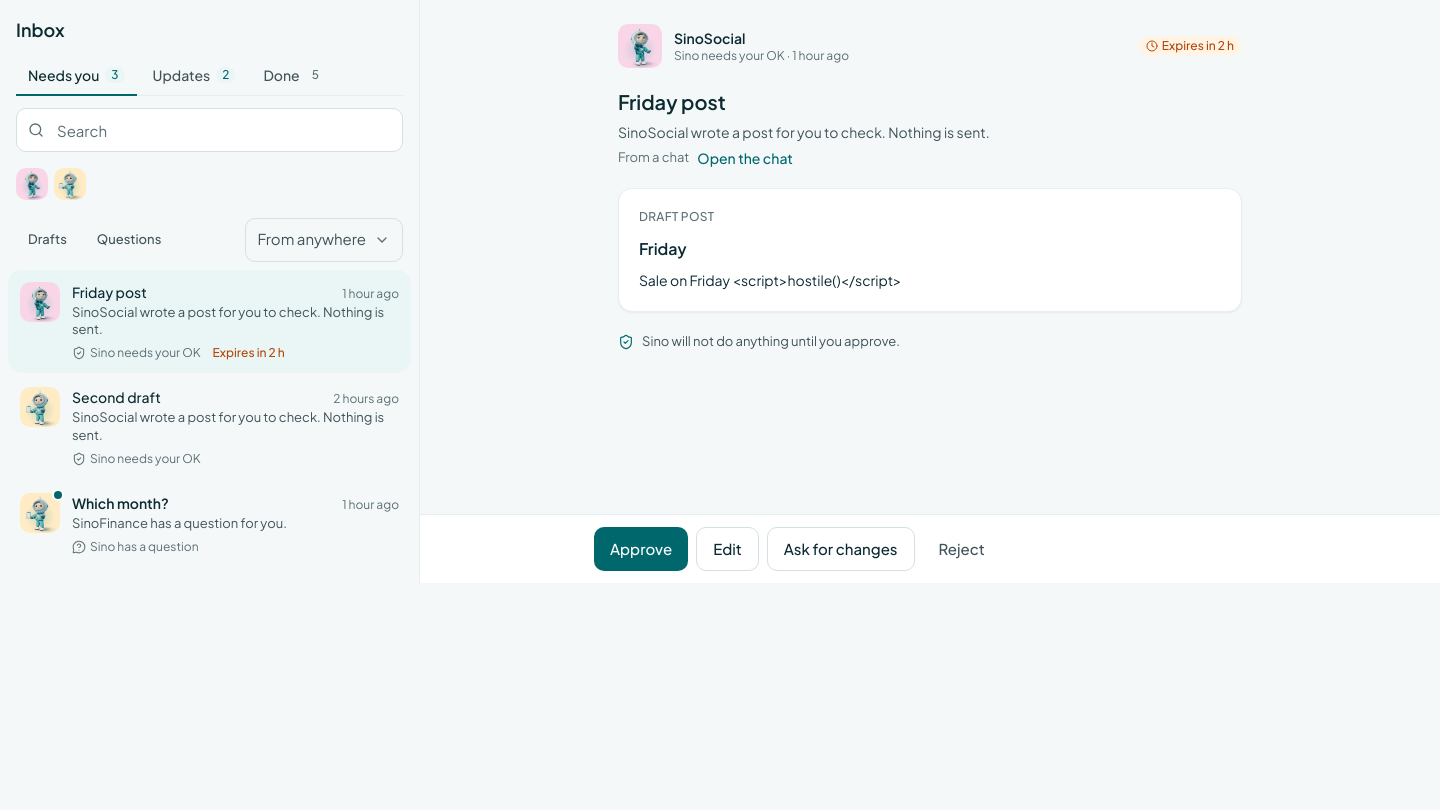
it: keyboard › r, c and e only move focus or open editors; r never rejects by itself
Press r
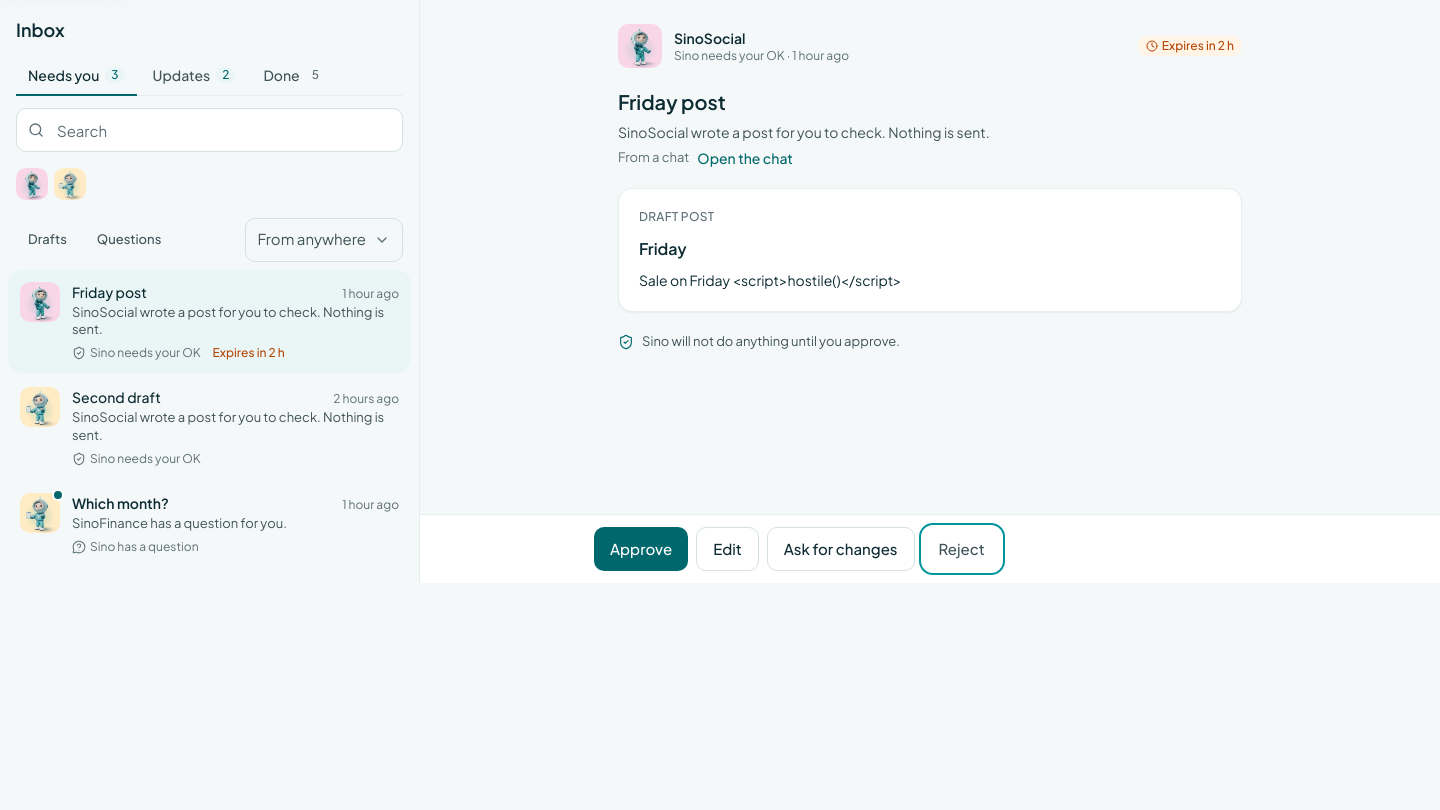
Expected: the field labelled "Note (optional)" is not shown
Click the button "Reject": {"x": 962, "y": 549} [922,527,1001,571]
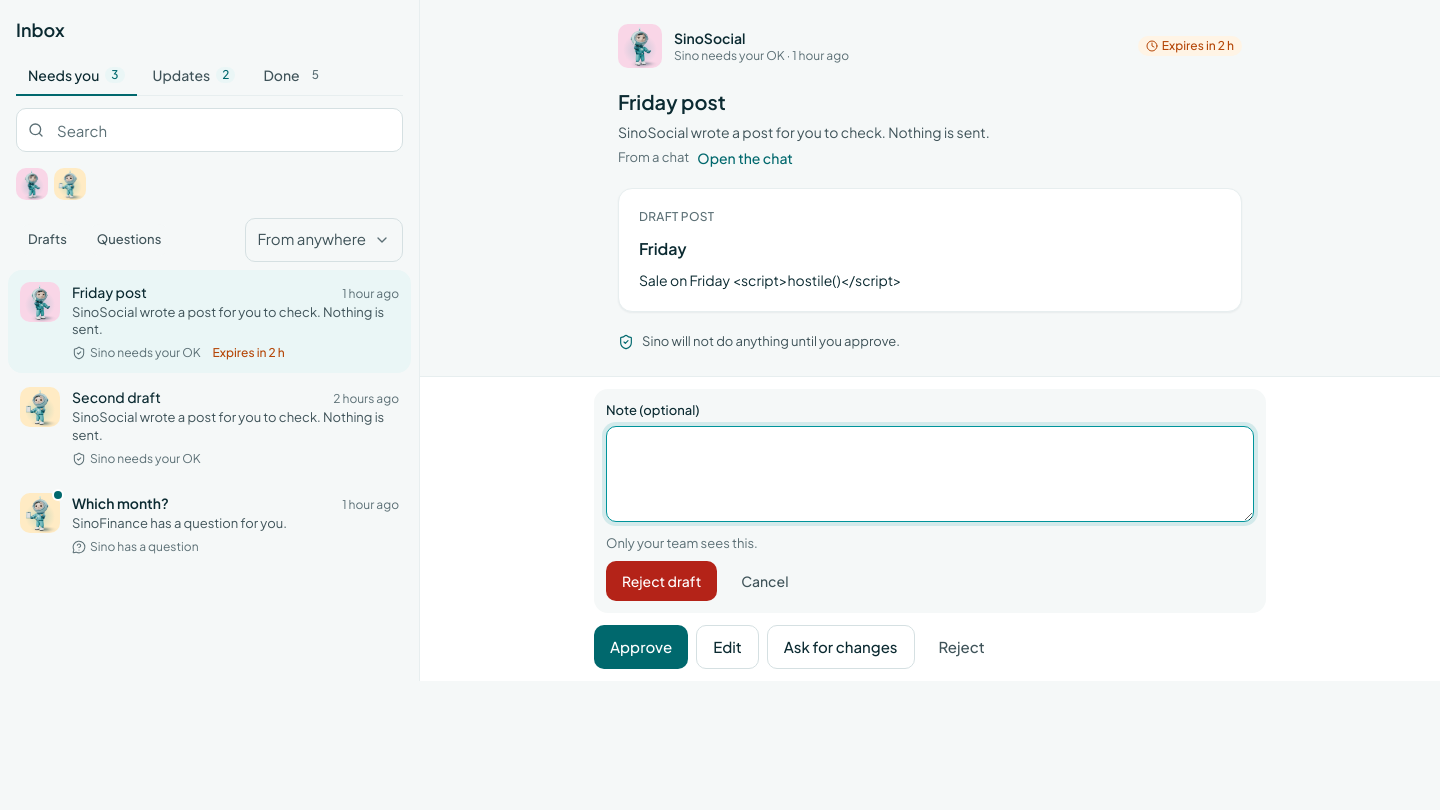
Expected: the text box labelled "Note (optional)" is shown
Press Escape in the text box labelled "Note (optional)", box [606,426,1254,522]
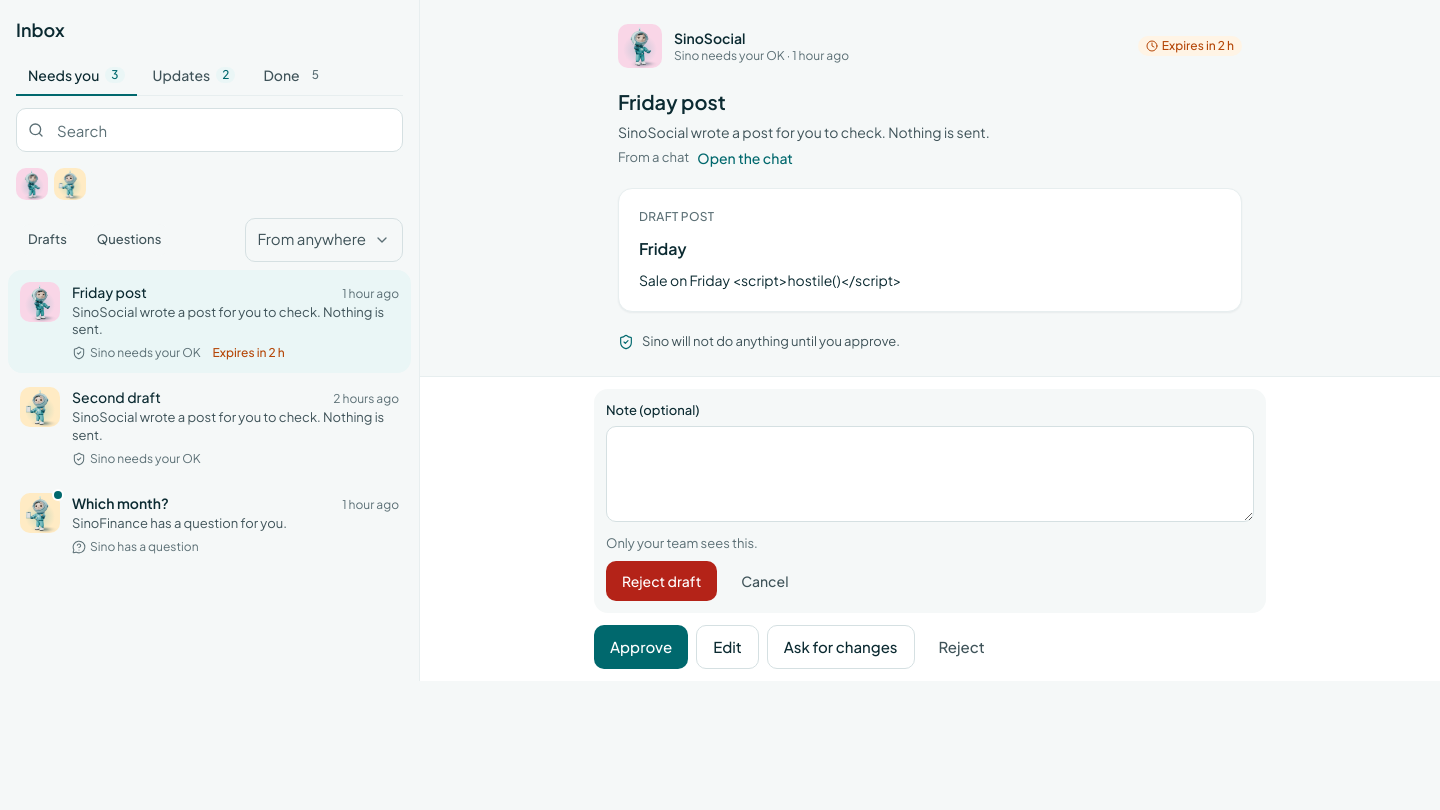
Press c
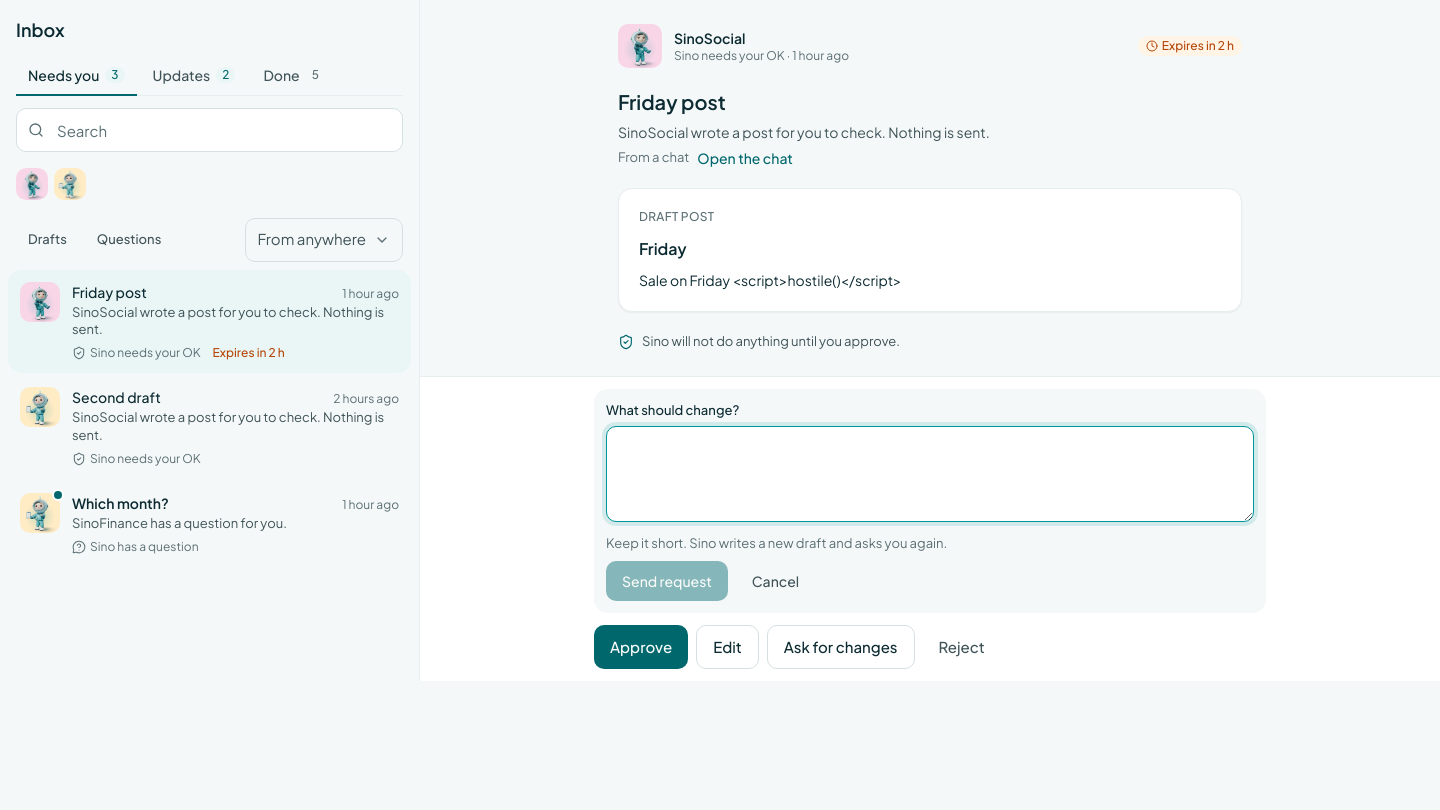
Expected: the text box labelled "What should change?" is shown, [606,426,1254,522]
Press Escape
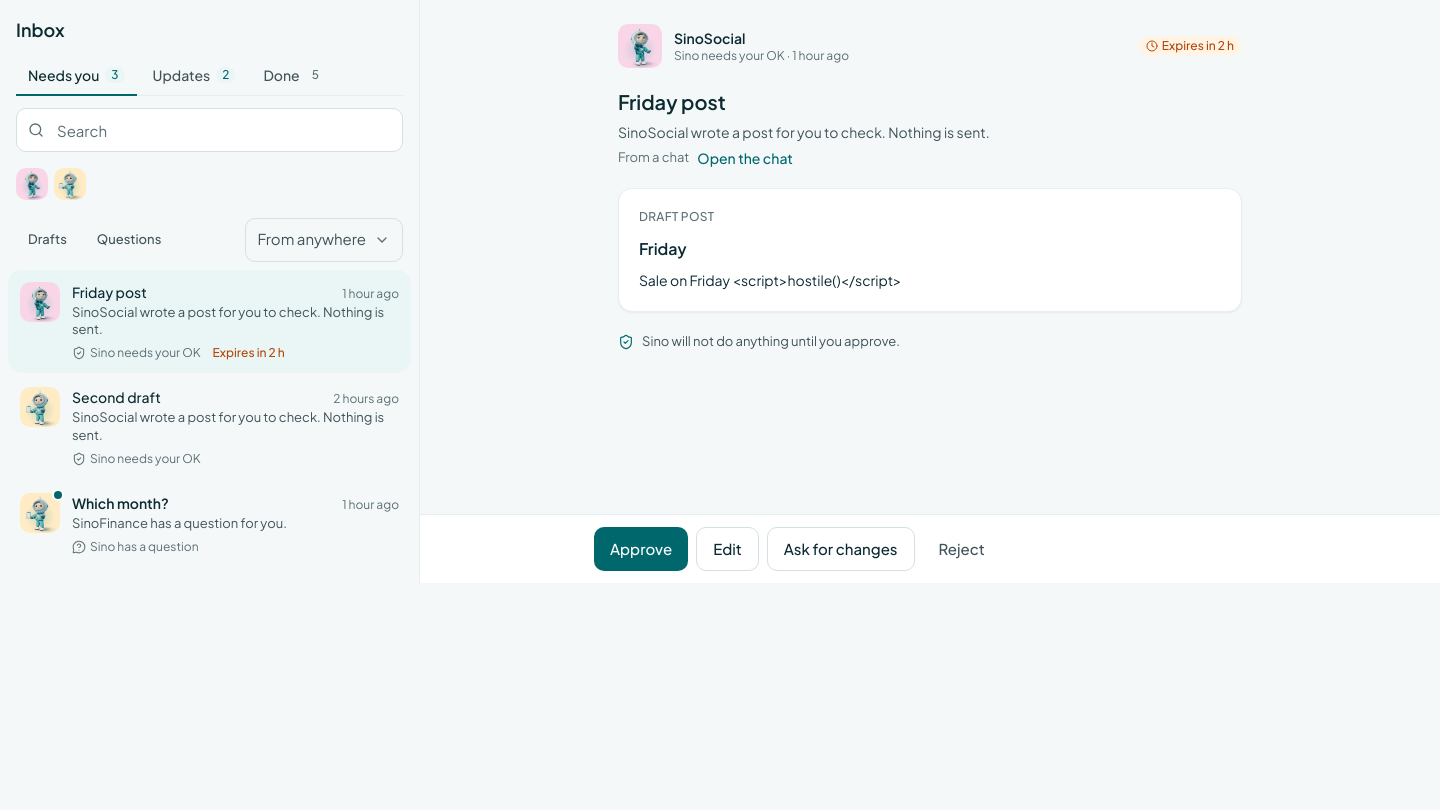
Press e
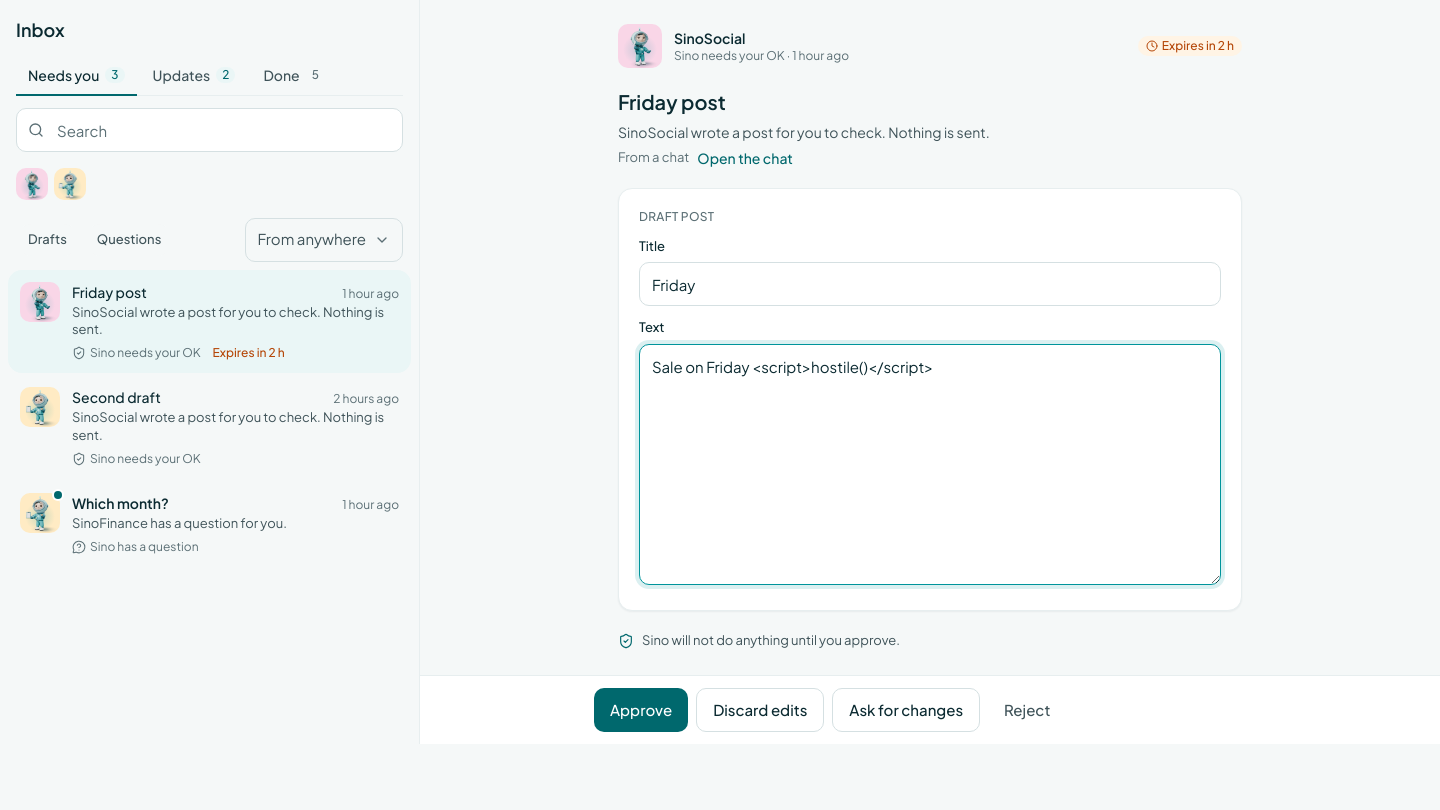
Expected: the text box labelled "Text" is shown, [639,344,1221,585]
